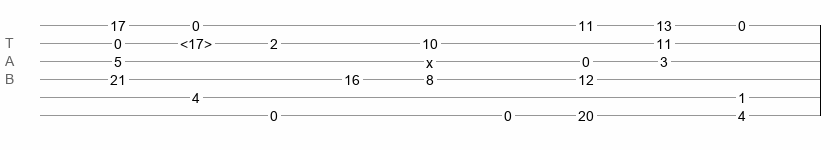0: (114, 36, 122, 46), (192, 18, 200, 28), (270, 108, 278, 118), (504, 108, 512, 118), (582, 54, 590, 64), (738, 18, 746, 28)
1: (738, 90, 746, 100)
10: (422, 36, 438, 46)
11: (578, 18, 594, 28), (656, 36, 672, 46)
12: (578, 72, 594, 82)
13: (656, 18, 672, 28)
16: (344, 72, 360, 82)
17: (110, 18, 126, 28)
2: (270, 36, 278, 46)
20: (578, 108, 594, 118)
21: (110, 72, 126, 82)
3: (660, 54, 668, 64)
4: (192, 90, 200, 100), (738, 108, 746, 118)
5: (114, 54, 122, 64)
8: (426, 72, 434, 82)
harmonic: (180, 36, 212, 46)
x: (426, 55, 433, 63)
